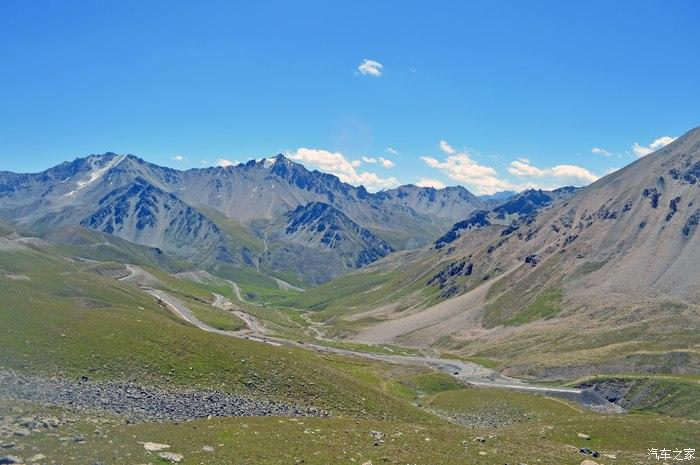mountain: (345, 127, 677, 357), (14, 149, 560, 285)
